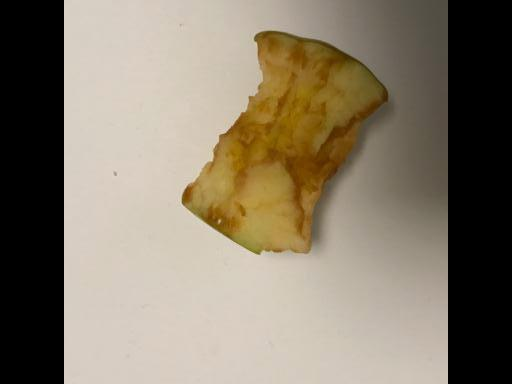trash: (180, 30, 388, 257)
